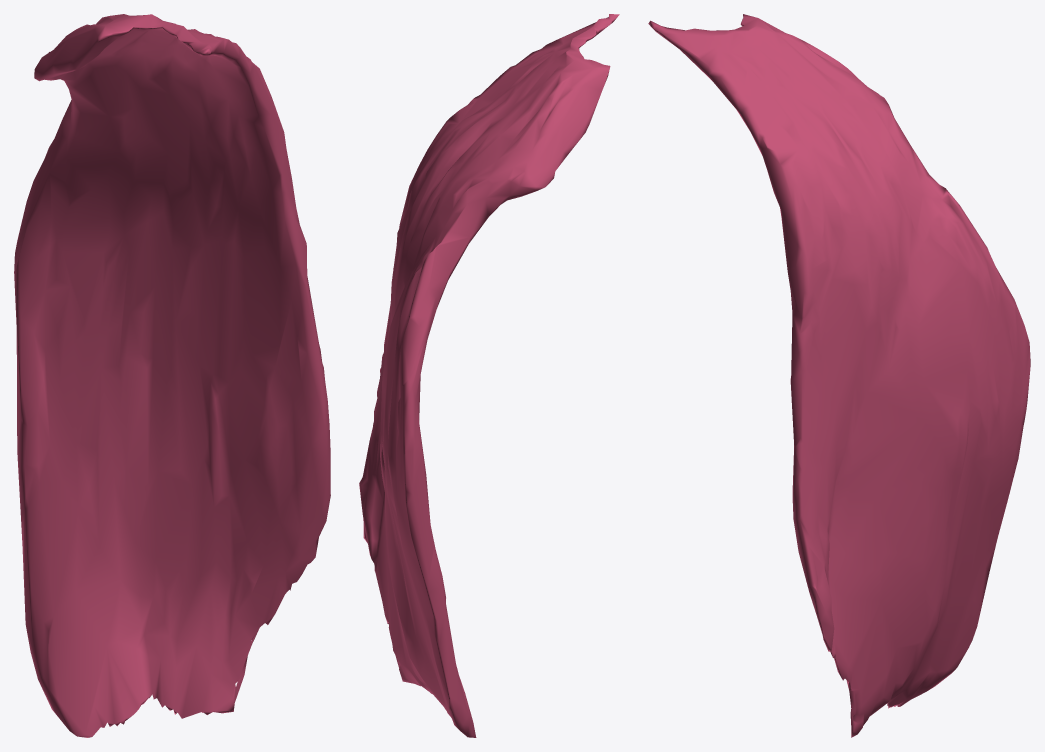
The picture shows the model from 3 angles, left to right: view 1: azimuth 30°, elevation 25°; view 2: azimuth 150°, elevation 25°; view 3: azimuth 270°, elevation 25°; orthographic projection. The views are drawn at different scales.
Parts seen in each view (by area): view 1: 左侧耻尾肌; view 2: 左侧耻尾肌; view 3: 左侧耻尾肌.
Boxes of the visible parts, bbox=[...] form: 左侧耻尾肌: bbox=[14, 14, 330, 737]; 左侧耻尾肌: bbox=[359, 14, 619, 737]; 左侧耻尾肌: bbox=[648, 14, 1030, 737].
Size of the model in its own units: 0.0491 by 0.1378 by 0.0712.
